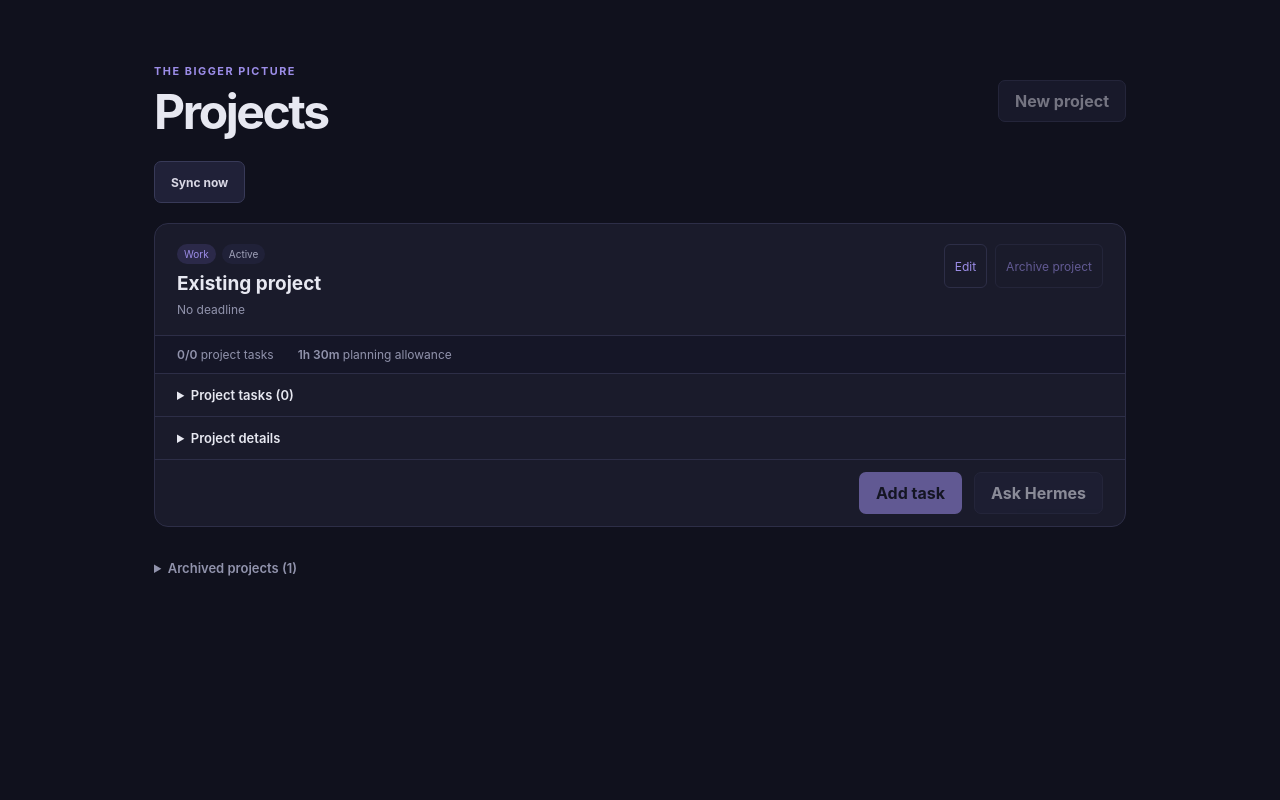
Scenario: archive and restore respect disabled planner controls
Expected: the button "Archive project" is disabled, [995,244,1103,288]
Click the heading "Archived projects (1)" at [232, 568], box [168,560,297,576]
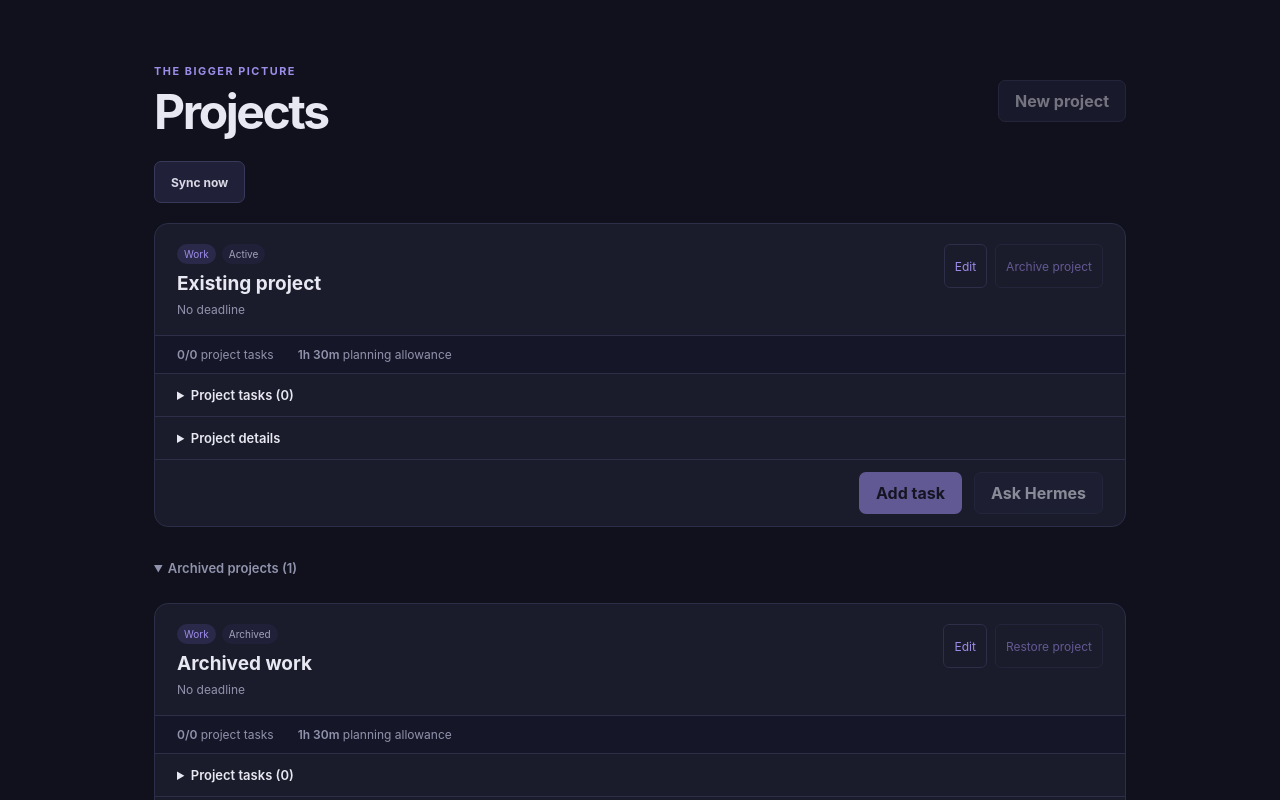
Result: the button "Restore project" is disabled at [995,624,1103,668]
